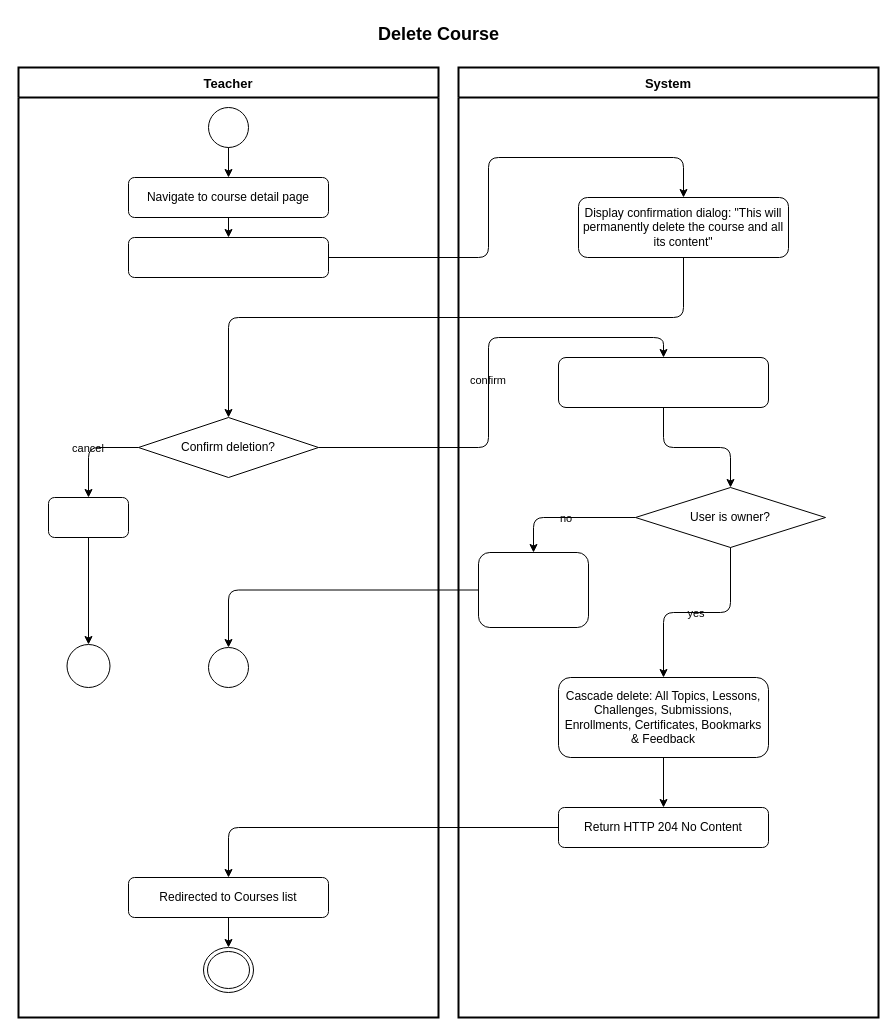
The diagram is 896 pixels wide and 1035 high, and some of its shapes have lost their labels. Here are the shapes that lost their labels. From the top down, the centre of each, then its label:
the point at 228,257: Click "Delete Course"
the point at 663,382: Check ownership (user = course.owner?)
the point at 88,517: No action taken
the point at 533,590: Return HTTP 403 Forbidden
